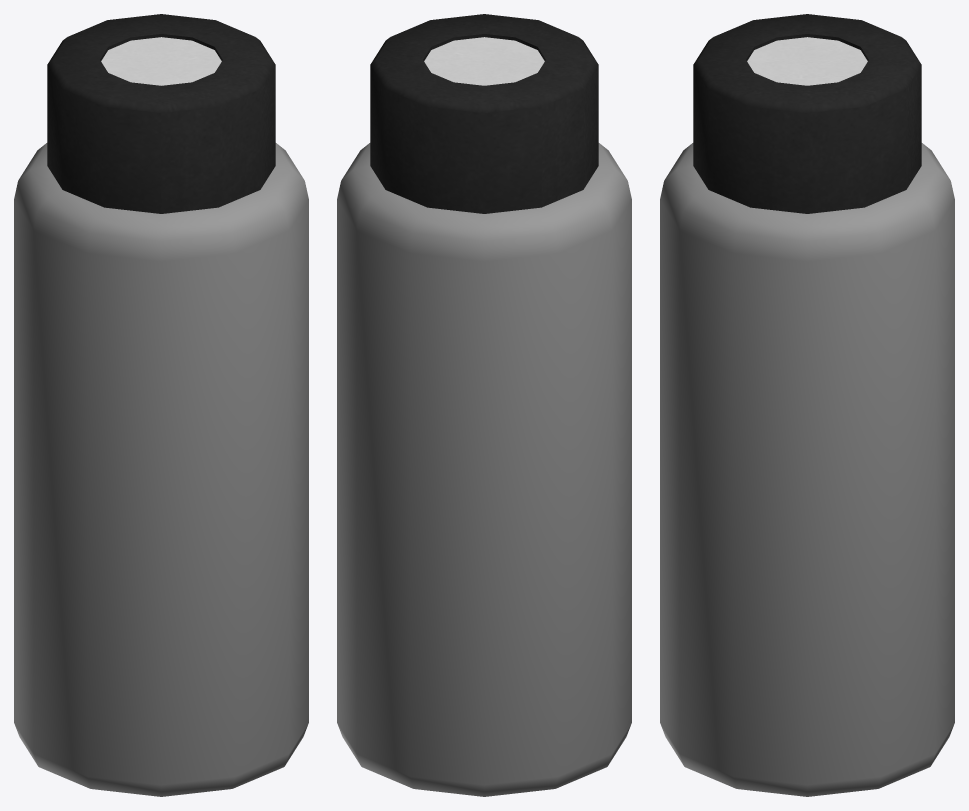
The model's file is SM_顶空瓶.fbx.
The picture shows the model from 3 angles, left to right: view 1: azimuth 30°, elevation 25°; view 2: azimuth 150°, elevation 25°; view 3: azimuth 270°, elevation 25°; orthographic projection.
Parts seen in each view (by area): view 1: SM_顶空瓶; view 2: SM_顶空瓶; view 3: SM_顶空瓶.
Part boxes in pixels (left/top/right/bottom): SM_顶空瓶: left=14, top=14, right=308, bottom=796; SM_顶空瓶: left=337, top=14, right=631, bottom=796; SM_顶空瓶: left=660, top=14, right=954, bottom=796.
Bounding box in the file's own units: 0.0227 × 0.0579 × 0.0227.
